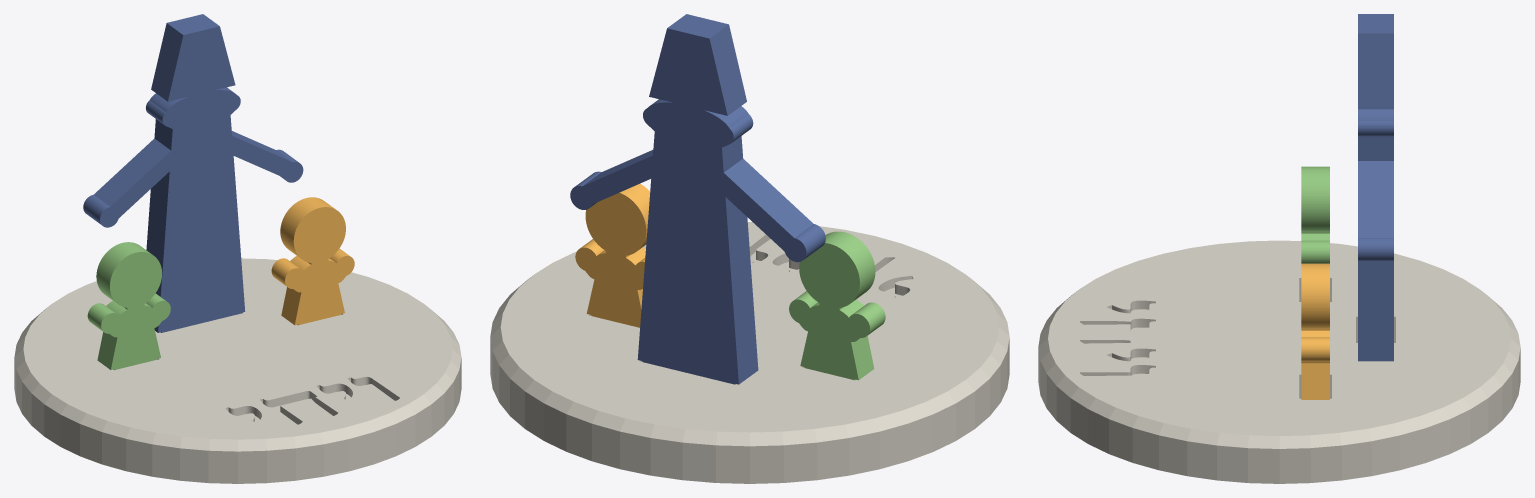
File: vayechi.glb
The picture shows the model from 3 angles, left to right: view 1: azimuth 30°, elevation 25°; view 2: azimuth 150°, elevation 25°; view 3: azimuth 270°, elevation 25°; orthographic projection. The views are drawn at different scales.
Visible parts, largest first — view 1: stage, yaakov, boy-2, boy-1; view 2: stage, yaakov, boy-1, boy-2; view 3: stage, yaakov, boy-2, boy-1.
Boxes of the visible parts, x1,y1,x2,y2 form: stage: (14, 258, 461, 483); yaakov: (83, 14, 303, 332); boy-2: (271, 197, 354, 325); boy-1: (87, 242, 170, 369); stage: (490, 222, 1009, 483); yaakov: (570, 14, 825, 384); boy-1: (789, 231, 885, 380); boy-2: (575, 184, 650, 327); stage: (1038, 240, 1520, 483); yaakov: (1358, 14, 1393, 361); boy-2: (1301, 263, 1329, 399); boy-1: (1301, 166, 1329, 263).
Size of the model in its own units: 40 by 32.8 by 40.
